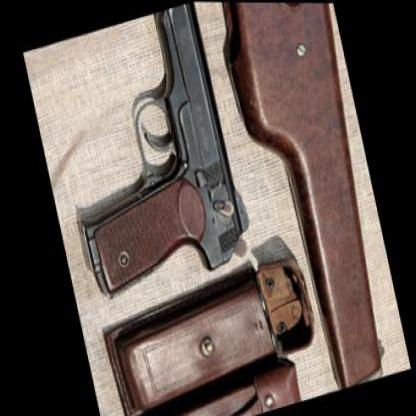pistol: (39, 0, 256, 306)
